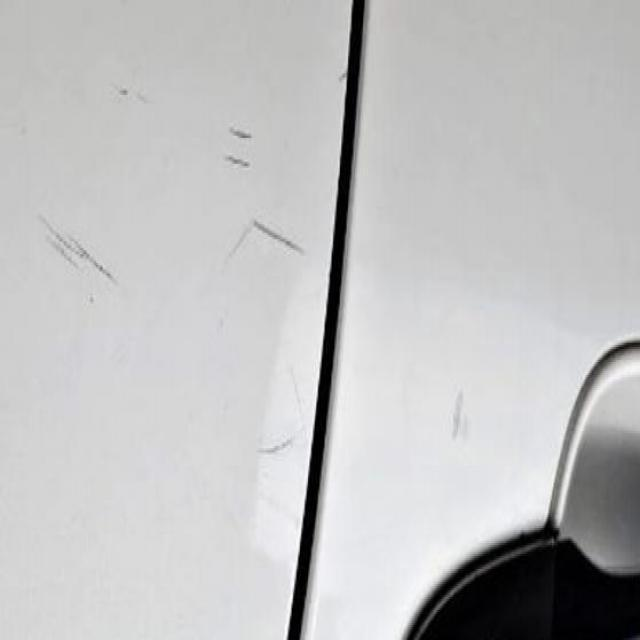scratch: (29, 207, 138, 326), (224, 204, 308, 272), (210, 114, 278, 174), (252, 421, 307, 478)
